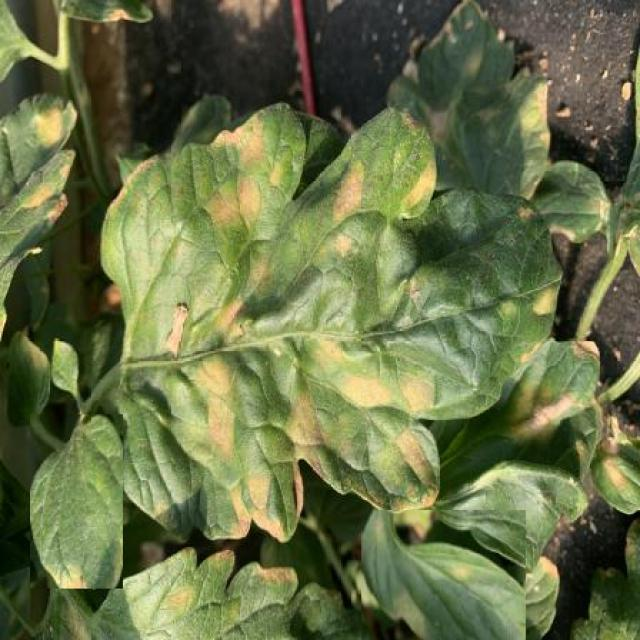Leaf Mold: (100, 101, 561, 542), (361, 510, 526, 640), (30, 414, 123, 589)
